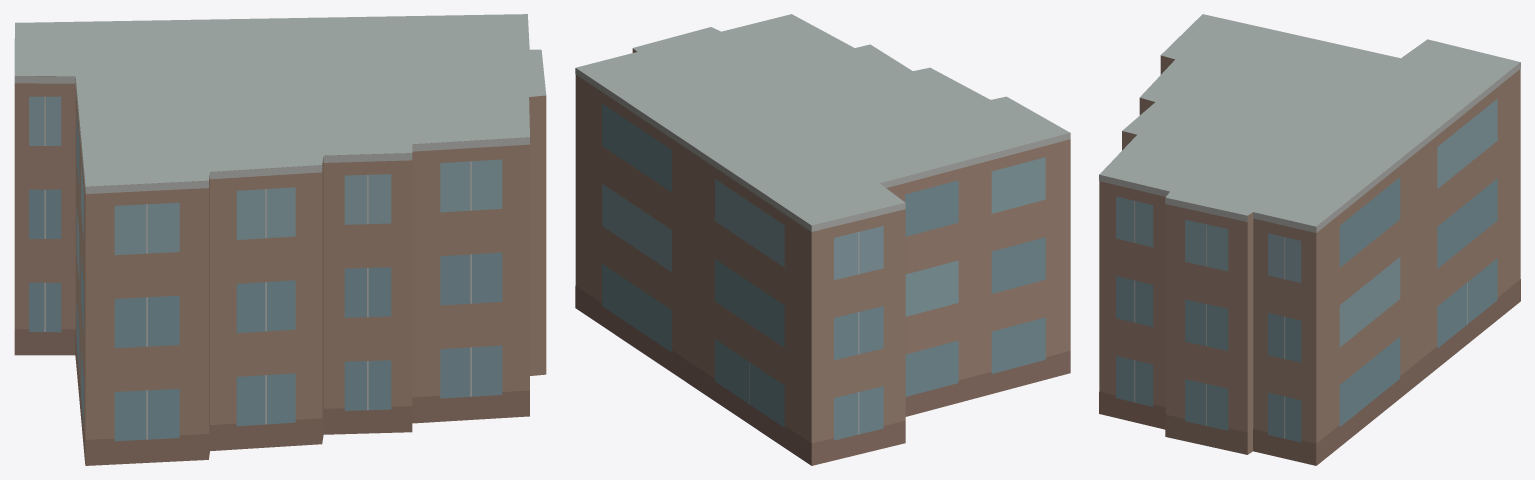
Rendered from survey-upis-32720271.glb.
3 renders of one model, left to right at view 1: azimuth 30°, elevation 25°; view 2: azimuth 150°, elevation 25°; view 3: azimuth 270°, elevation 25°, orthographic. The views are drawn at different scales.
Parts seen in each view (by area): view 1: survey-upis-32720271.tmp; view 2: survey-upis-32720271.tmp; view 3: survey-upis-32720271.tmp.
Part boxes in pixels (bbox=[...]): survey-upis-32720271.tmp: bbox=[14, 14, 546, 465]; survey-upis-32720271.tmp: bbox=[575, 14, 1070, 465]; survey-upis-32720271.tmp: bbox=[1099, 14, 1520, 465].
Bounding box in the file's own units: 17.46 × 9.15 × 14.63.
